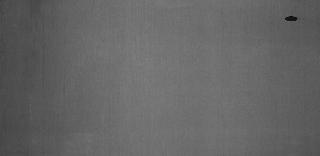punching hole: (283, 15, 299, 23)
